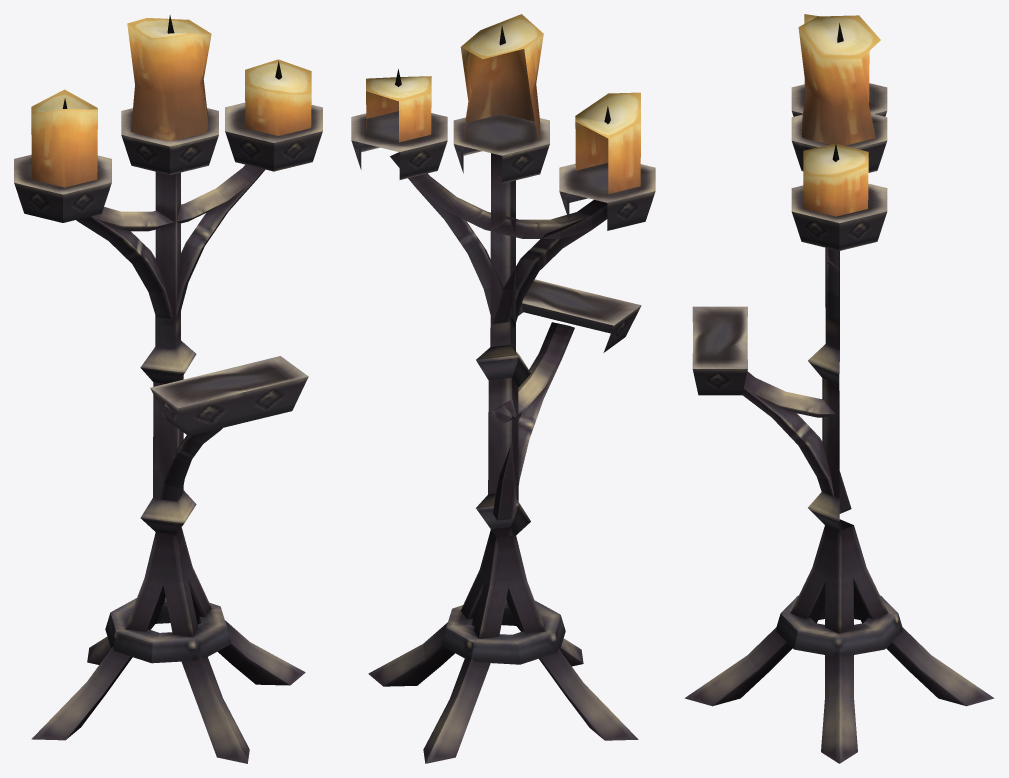
The model's file is cs_chengshi_zhujia_001.FBX.
3 views of the same model, side by side, from view 1: azimuth 30°, elevation 25°; view 2: azimuth 150°, elevation 25°; view 3: azimuth 270°, elevation 25° (orthographic). The views are drawn at different scales.
Visible parts, largest first — view 1: cs_chengshi_zhujia_001; view 2: cs_chengshi_zhujia_001; view 3: cs_chengshi_zhujia_001.
Boxes of the visible parts, bbox=[...] form: cs_chengshi_zhujia_001: bbox=[14, 15, 322, 763]; cs_chengshi_zhujia_001: bbox=[351, 14, 655, 763]; cs_chengshi_zhujia_001: bbox=[684, 14, 994, 763].
Size of the model in its own units: 22.03 by 19.6 by 47.16.
